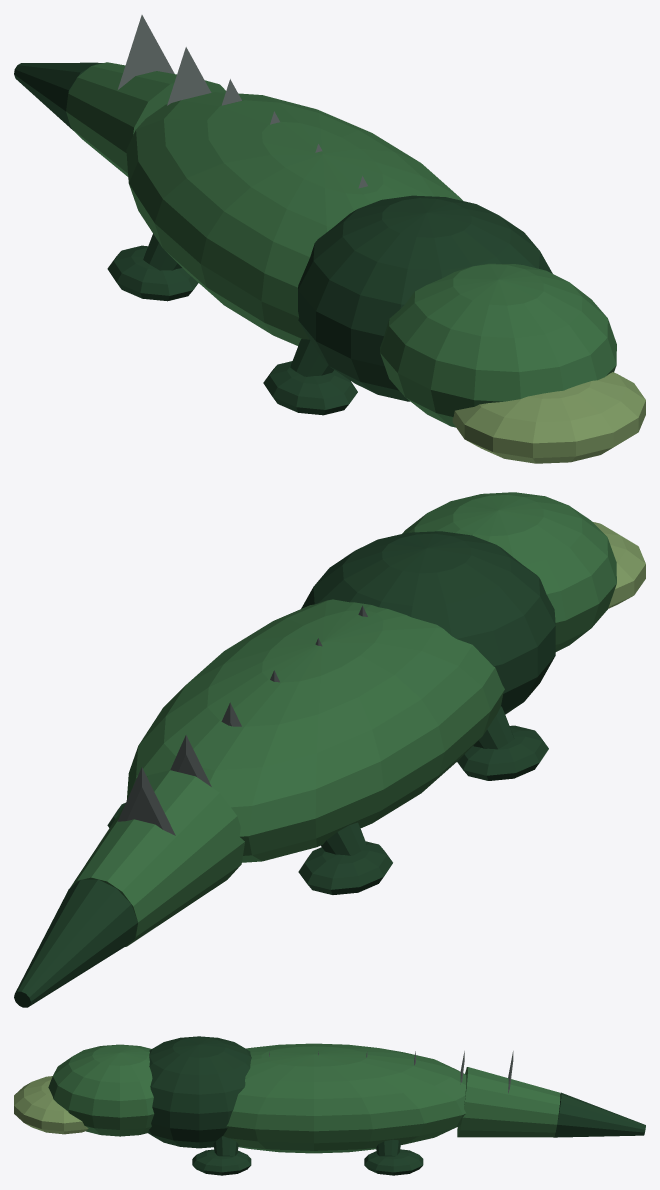
The model's file is MagicForestGator.obj.
3 views of the same model, one above another, from view 1: azimuth 30°, elevation 25°; view 2: azimuth 150°, elevation 25°; view 3: azimuth 270°, elevation 25° (orthographic). The views are drawn at different scales.
Parts seen in each view (by area): view 1: Body, Head, Chest, Jaw, TailA, Foot_-0.9_-1.05, Foot_-0.9_1.35, TailB, Dorsal6, Dorsal5, Leg_-0.9_-1.05, Leg_-0.9_1.35; view 2: Body, Chest, TailA, Head, TailB, Foot_-0.9_1.35, Foot_-0.9_-1.05, Jaw, Dorsal6, Leg_-0.9_1.35, Leg_-0.9_-1.05, Dorsal5; view 3: Body, Chest, Head, TailA, TailB, Jaw, Foot_0.9_-1.05, Foot_0.9_1.35, Leg_0.9_-1.05, Leg_0.9_1.35.
Part boxes in pixels (box(x1,y1,x2,y2)): Body: box(126, 92, 462, 345); Head: box(380, 263, 616, 427); Chest: box(298, 195, 552, 401); Jaw: box(452, 372, 645, 463); TailA: box(66, 62, 225, 176); Foot_-0.9_-1.05: box(263, 361, 357, 415); Foot_-0.9_1.35: box(107, 245, 198, 301); TailB: box(14, 62, 102, 131); Dorsal6: box(118, 15, 174, 89); Dorsal5: box(167, 47, 211, 105); Leg_-0.9_-1.05: box(290, 339, 333, 376); Leg_-0.9_1.35: box(143, 234, 181, 270); Body: box(126, 599, 504, 862); Chest: box(301, 531, 555, 714); TailA: box(70, 770, 244, 947); Head: box(402, 492, 616, 651); TailB: box(14, 879, 137, 1007); Foot_-0.9_1.35: box(298, 841, 392, 894); Foot_-0.9_-1.05: box(457, 725, 548, 780); Jaw: box(592, 521, 645, 608); Dorsal6: box(117, 767, 175, 835); Leg_-0.9_1.35: box(321, 822, 367, 855); Leg_-0.9_-1.05: box(473, 706, 514, 749); Dorsal5: box(170, 735, 211, 786); Body: box(223, 1043, 466, 1153); Chest: box(148, 1036, 251, 1148); Head: box(48, 1044, 154, 1136); TailA: box(457, 1067, 560, 1137); TailB: box(553, 1092, 645, 1137); Jaw: box(14, 1076, 88, 1134); Foot_0.9_-1.05: box(192, 1149, 251, 1175); Foot_0.9_1.35: box(364, 1149, 423, 1175); Leg_0.9_-1.05: box(213, 1136, 238, 1156); Leg_0.9_1.35: box(376, 1139, 400, 1156).
Bounding box in the file's own units: 2.52 × 1.65 × 9.36.
